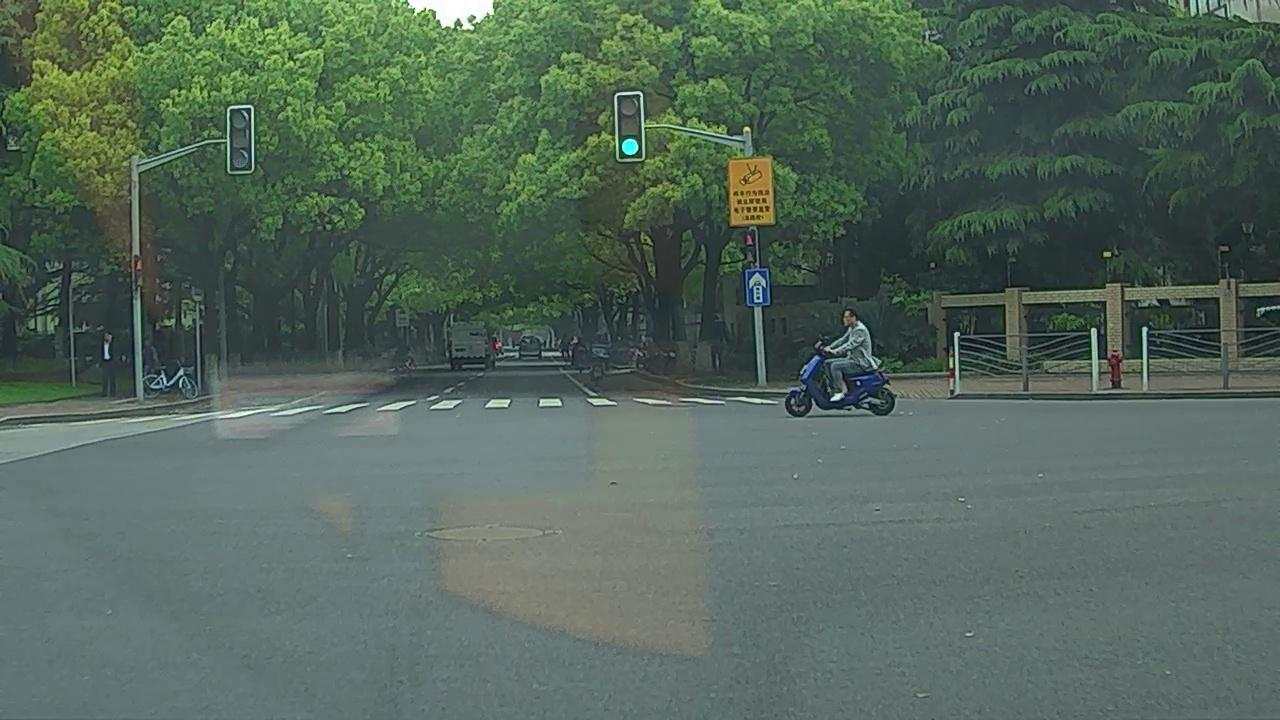traffic_light: (621, 95, 644, 162), (232, 105, 252, 171)
